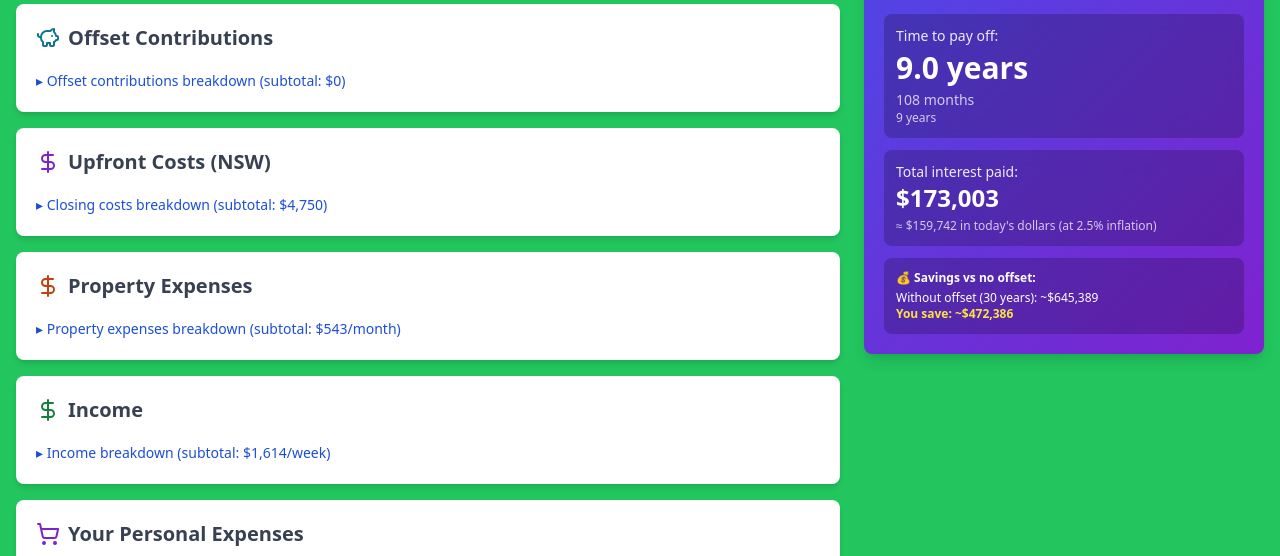
Investment Property gates Land Tax / Property Management fields › hides Land Tax/Property Management when off, reveals them when checked
(page scrolled)
Click the button "▸ Property expenses breakdown (subtotal: $543/month)". click: (218, 329)
box: top-left (36, 319), bottom-right (401, 339)
(page scrolled)
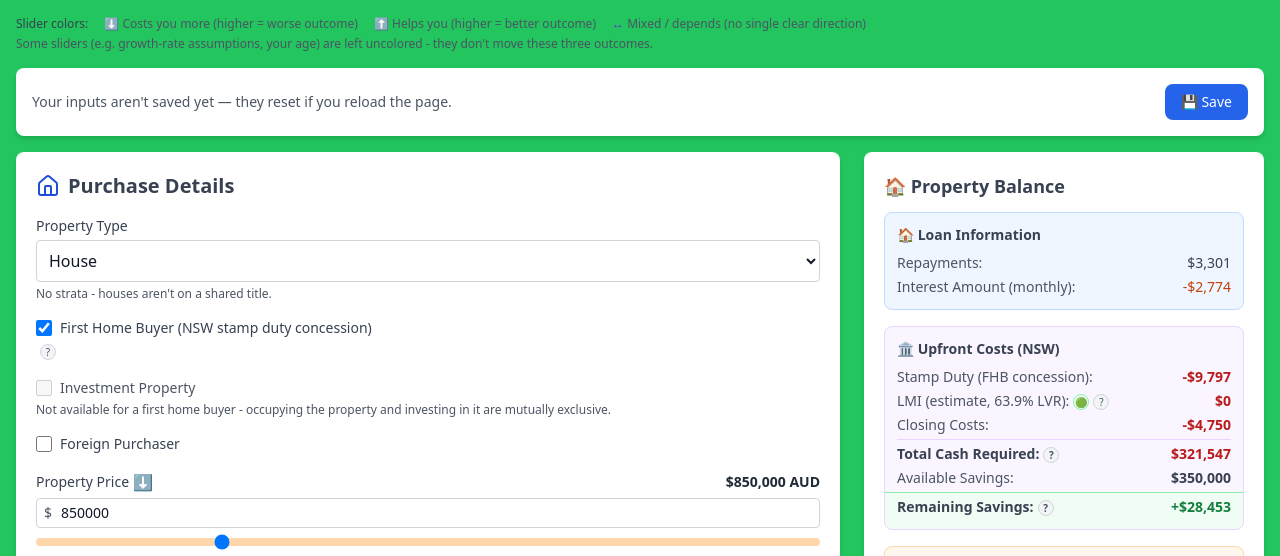
Expected: the field labelled "Land Tax (yearly)" is not shown
Expected: the field labelled "Property Management (monthly)" is not shown
Click the checkbox labelled "First Home Buyer (NSW stamp duty concession)". click: (44, 328)
box: top-left (36, 320), bottom-right (52, 336)
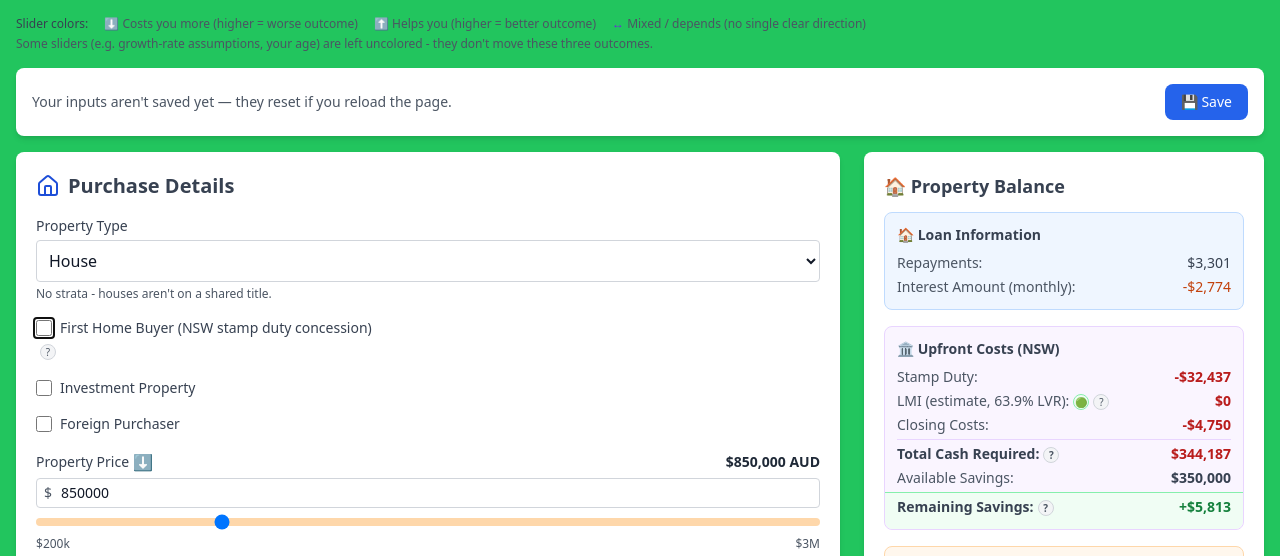
Click the checkbox labelled "Investment Property". click: (44, 388)
box: top-left (36, 380), bottom-right (52, 396)
(page scrolled)
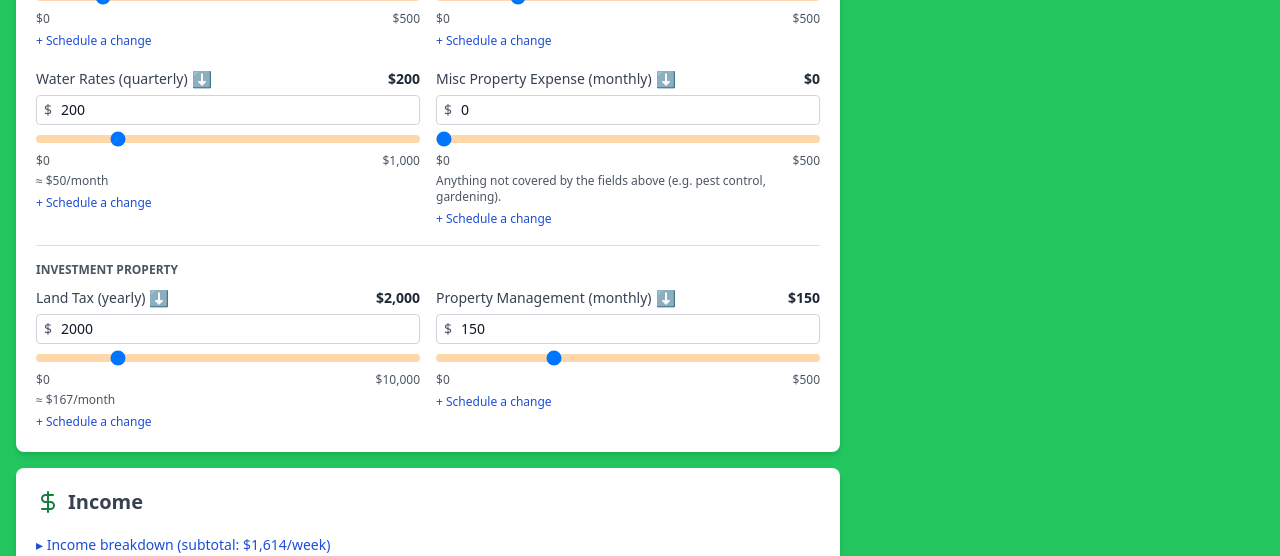
Result: the number field labelled "Land Tax (yearly)" is shown at top-left (36, 314), bottom-right (420, 344)
Result: the number field labelled "Property Management (monthly)" is shown at top-left (436, 314), bottom-right (820, 344)
